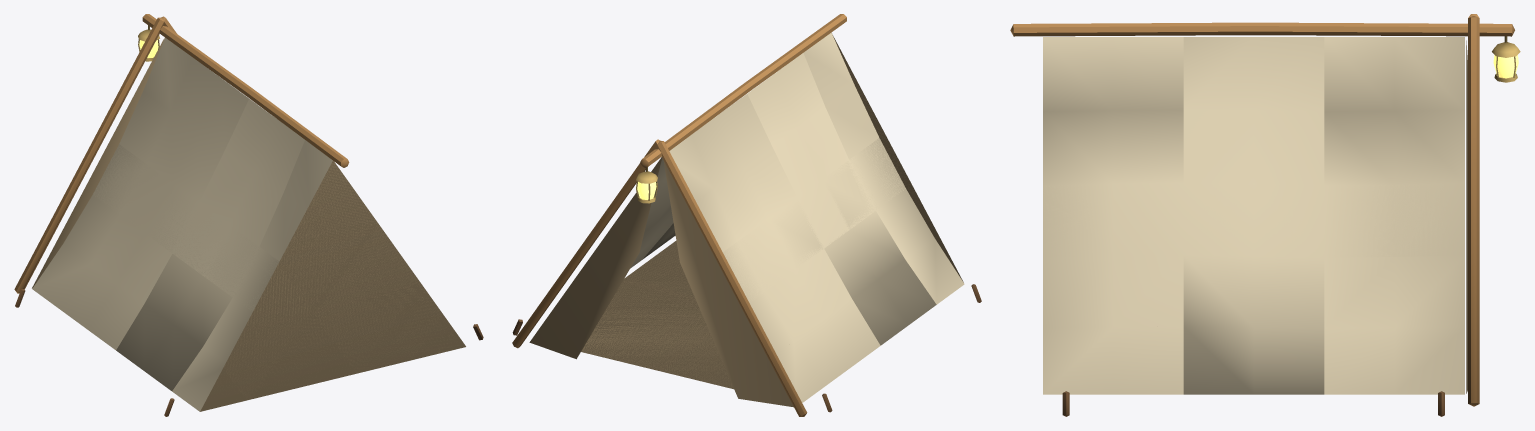
File: EDV2_Tent.fbx
3 views of the same model, side by side, from view 1: azimuth 30°, elevation 25°; view 2: azimuth 150°, elevation 25°; view 3: azimuth 270°, elevation 25° (orthographic). The views are drawn at different scales.
Visible parts, largest first — view 1: Canvas, Poles; view 2: Canvas, Poles; view 3: Canvas, Poles.
Boxes of the visible parts, x1,y1,x2,y2 form: Canvas: [32, 37, 465, 411]; Poles: [14, 14, 483, 416]; Canvas: [529, 32, 964, 407]; Poles: [512, 14, 981, 416]; Canvas: [1043, 37, 1467, 394]; Poles: [1010, 14, 1520, 416].
Bounding box in the file's own units: 1.58 × 1.14 × 1.74.
